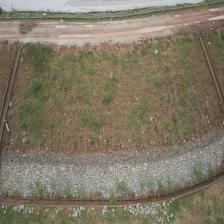rock_toe: (0, 128, 224, 199)
slope_drain: (0, 44, 23, 154), (197, 30, 224, 110)
